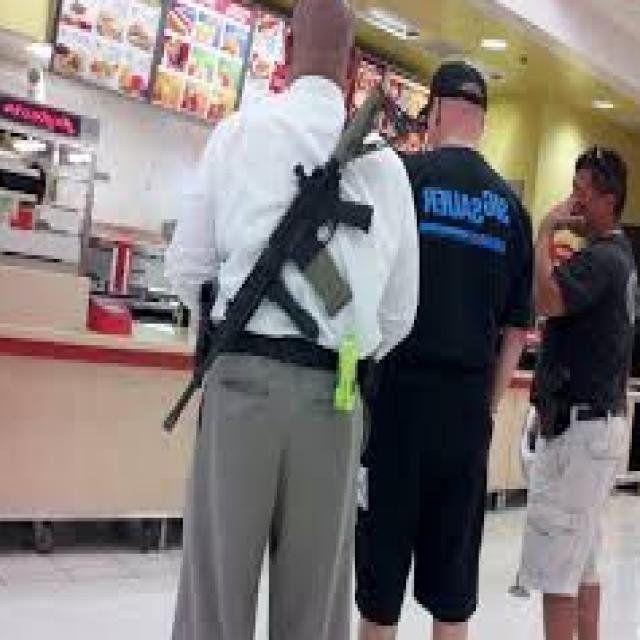gun: (140, 62, 424, 453)
